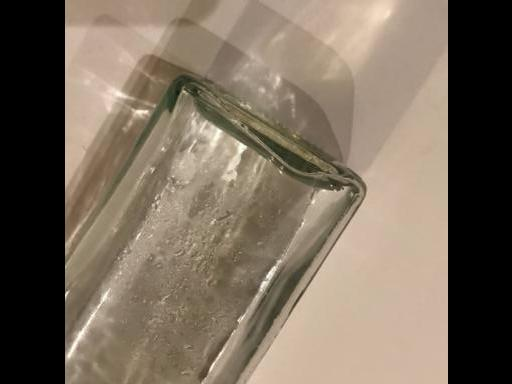glass: (64, 58, 366, 384)
sodocalcique: (64, 58, 366, 384)
